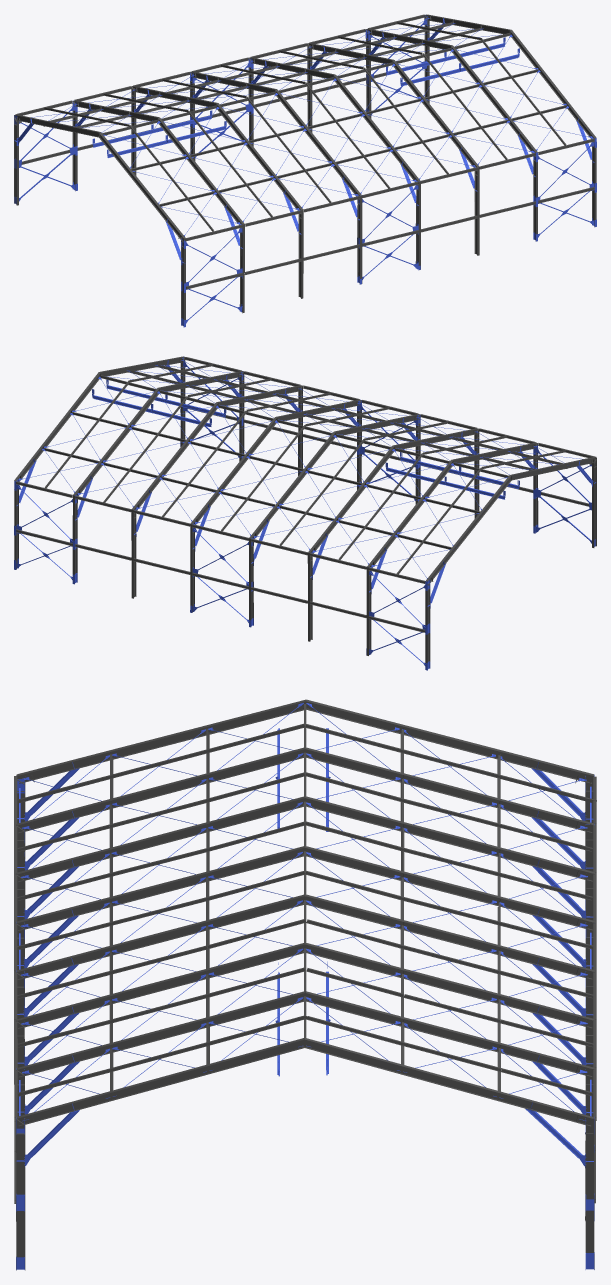
File: Shinjo.fbx
3 renders of one model, top to bottom at view 1: azimuth 30°, elevation 25°; view 2: azimuth 150°, elevation 25°; view 3: azimuth 270°, elevation 25°, orthographic. The views are drawn at different scales.
Parts seen in each view (by area): view 1: SteelFrame; view 2: SteelFrame; view 3: SteelFrame.
Part boxes in pixels (x1,y1,x2,y2): SteelFrame: [14, 14, 596, 327]; SteelFrame: [14, 356, 596, 670]; SteelFrame: [14, 699, 596, 1270].
Bounding box in the file's own units: 297 × 92.9 × 212.
